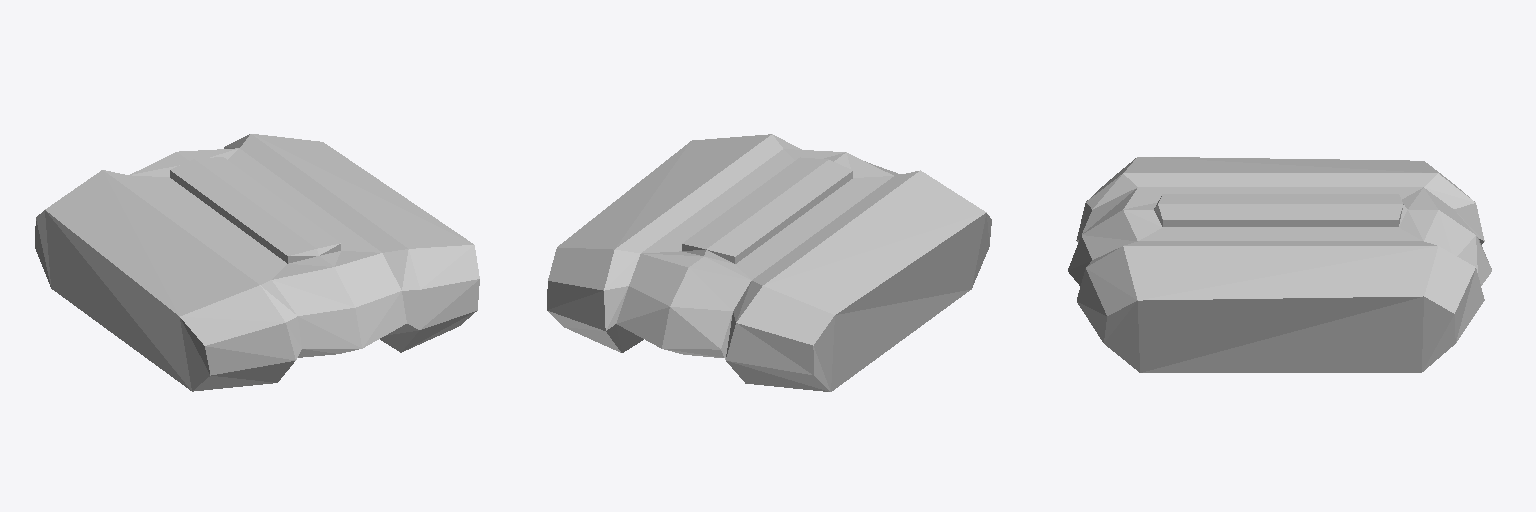
Rendered from tank.obj.
3 views of the same model, side by side, from view 1: azimuth 30°, elevation 25°; view 2: azimuth 150°, elevation 25°; view 3: azimuth 270°, elevation 25° (orthographic).
Parts seen in each view (by area): view 1: Cube_Cube.001; view 2: Cube_Cube.001; view 3: Cube_Cube.001.
Boxes of the visible parts, x1,y1,x2,y2 form: Cube_Cube.001: [35, 134, 479, 391]; Cube_Cube.001: [547, 134, 991, 391]; Cube_Cube.001: [1068, 157, 1491, 372].
Bounding box in the file's own units: 3.63 × 1.22 × 4.53.